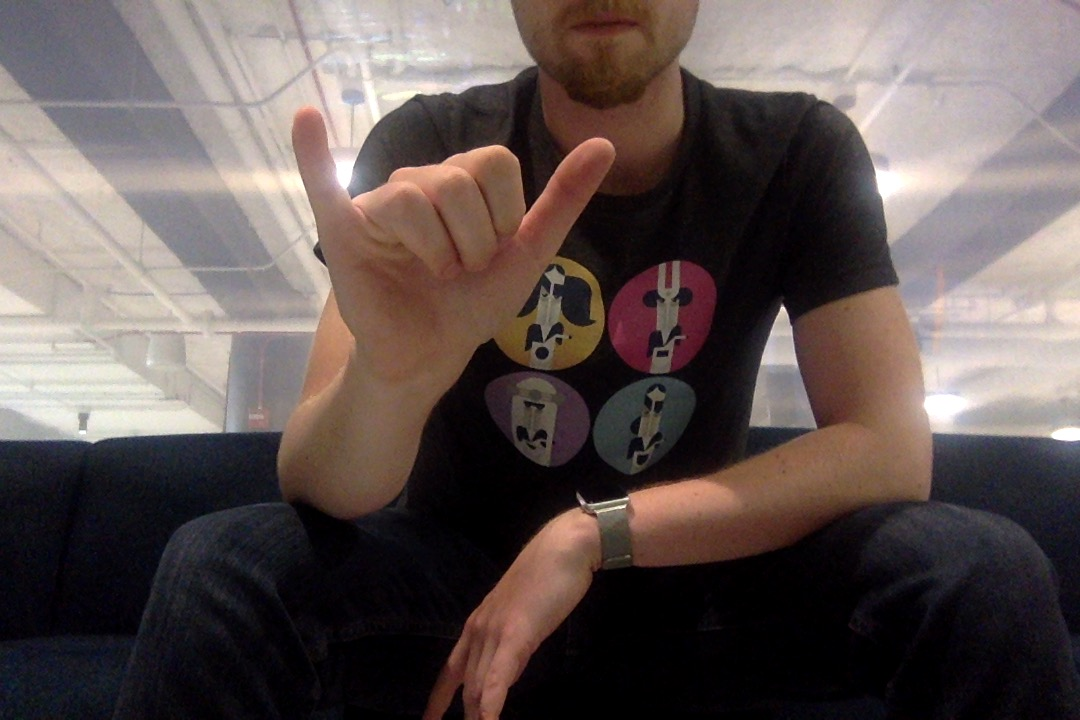y: (273, 98, 623, 384)
